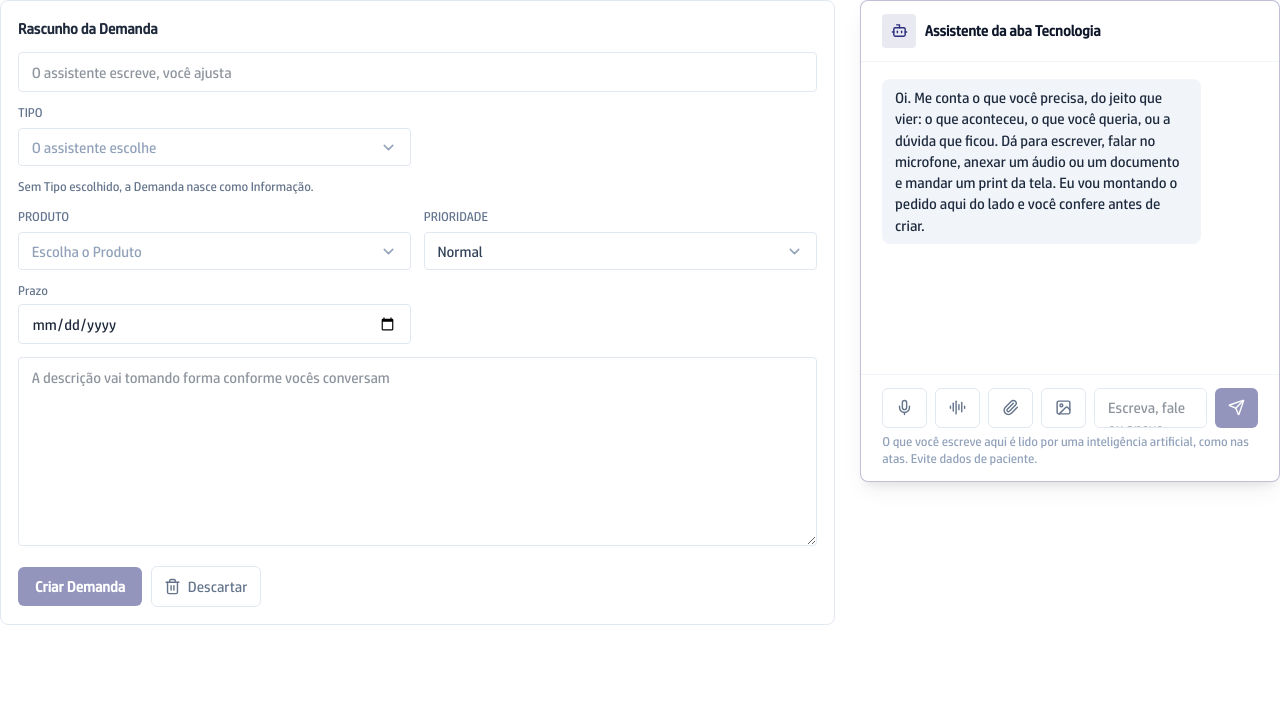
Test: A conversa › o teto de taxa vira frase de gente, e não o inglês do slowapi
Step 1. Type "a Ana tá estranha" into the text box named "Mensagem" → (1151, 408), box left=1094, top=388, right=1207, bottom=428
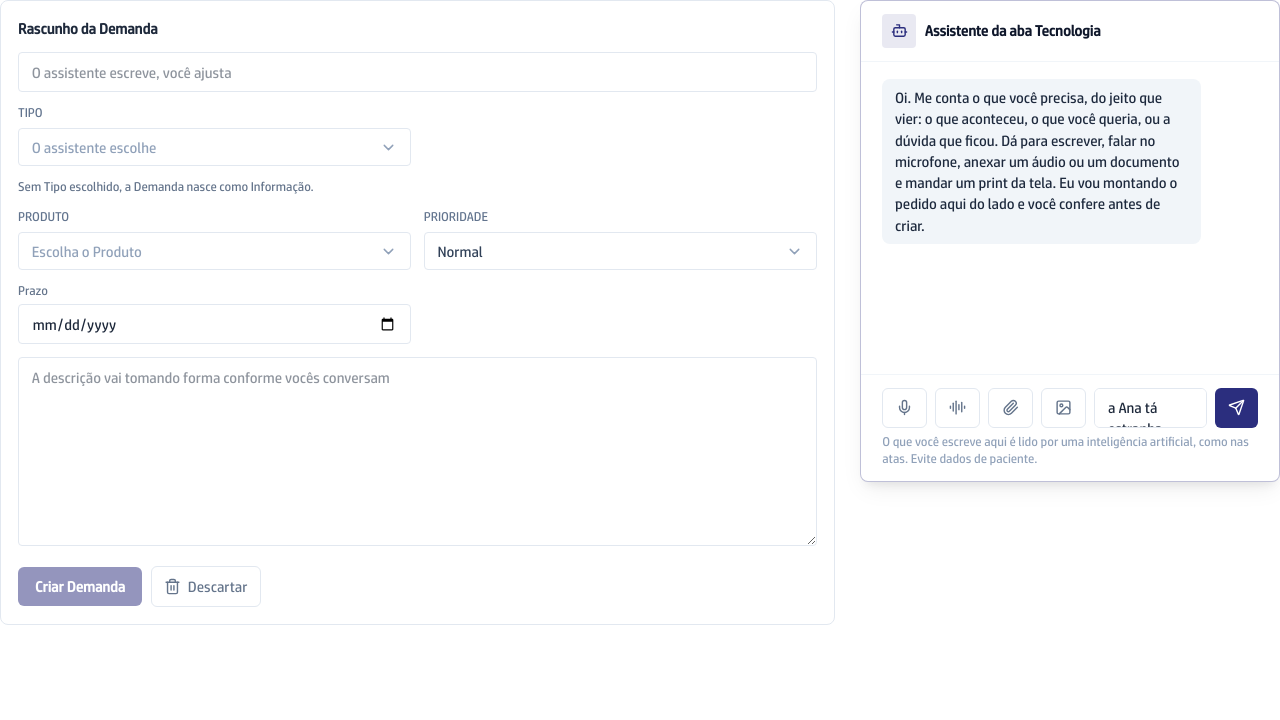
Step 2. Click the button named "Enviar" → (1237, 408), box left=1215, top=388, right=1258, bottom=428
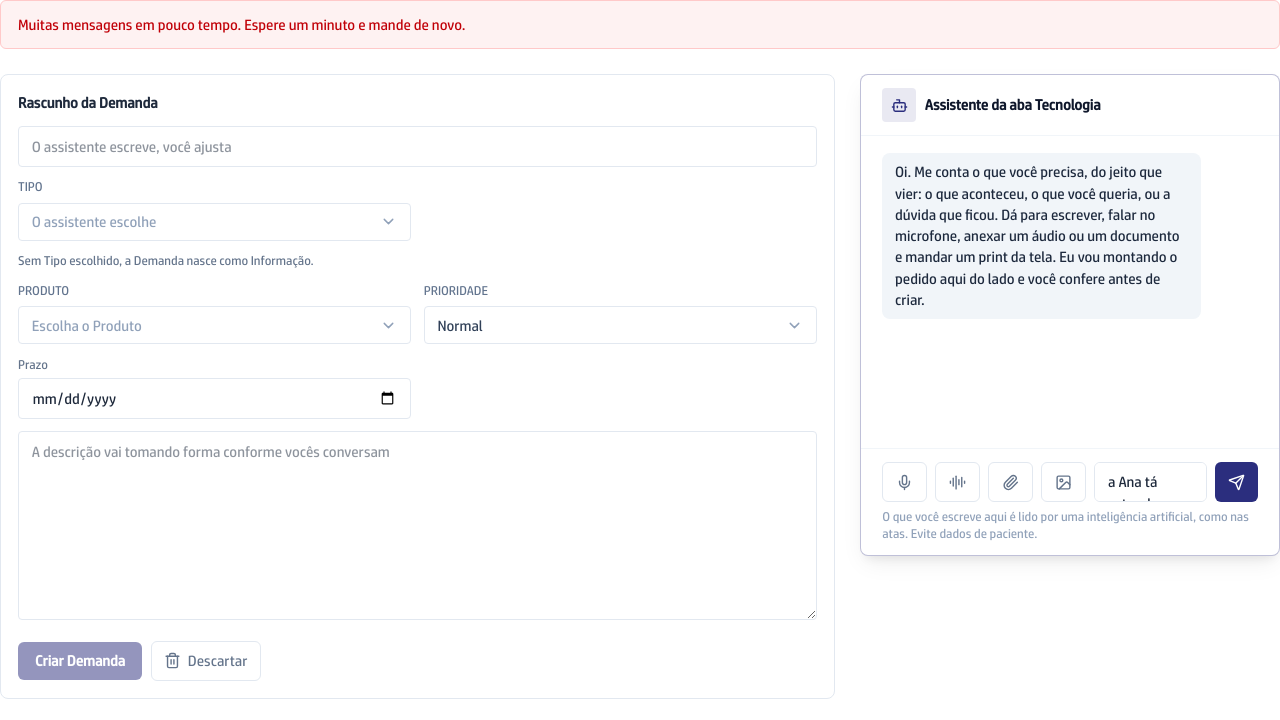
Check: the message reads "Muitas mensagens em pouco tempo. Espere um minuto e mande de novo.", box left=18, top=16, right=465, bottom=33
